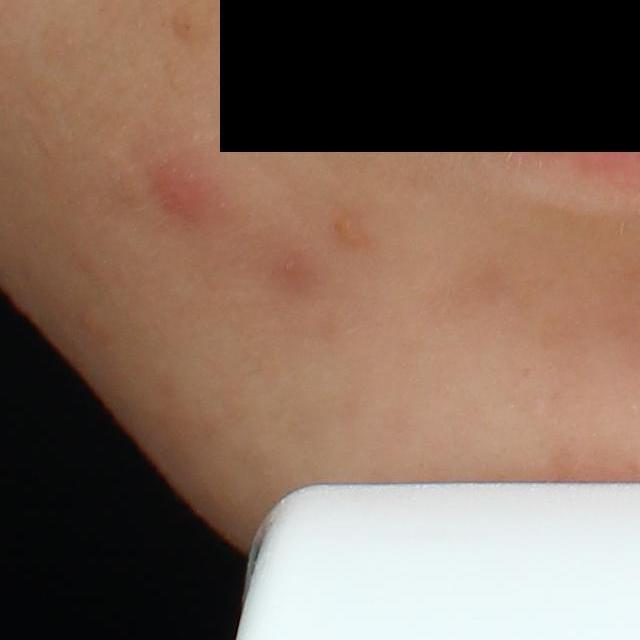papule: (143, 151, 222, 228)
